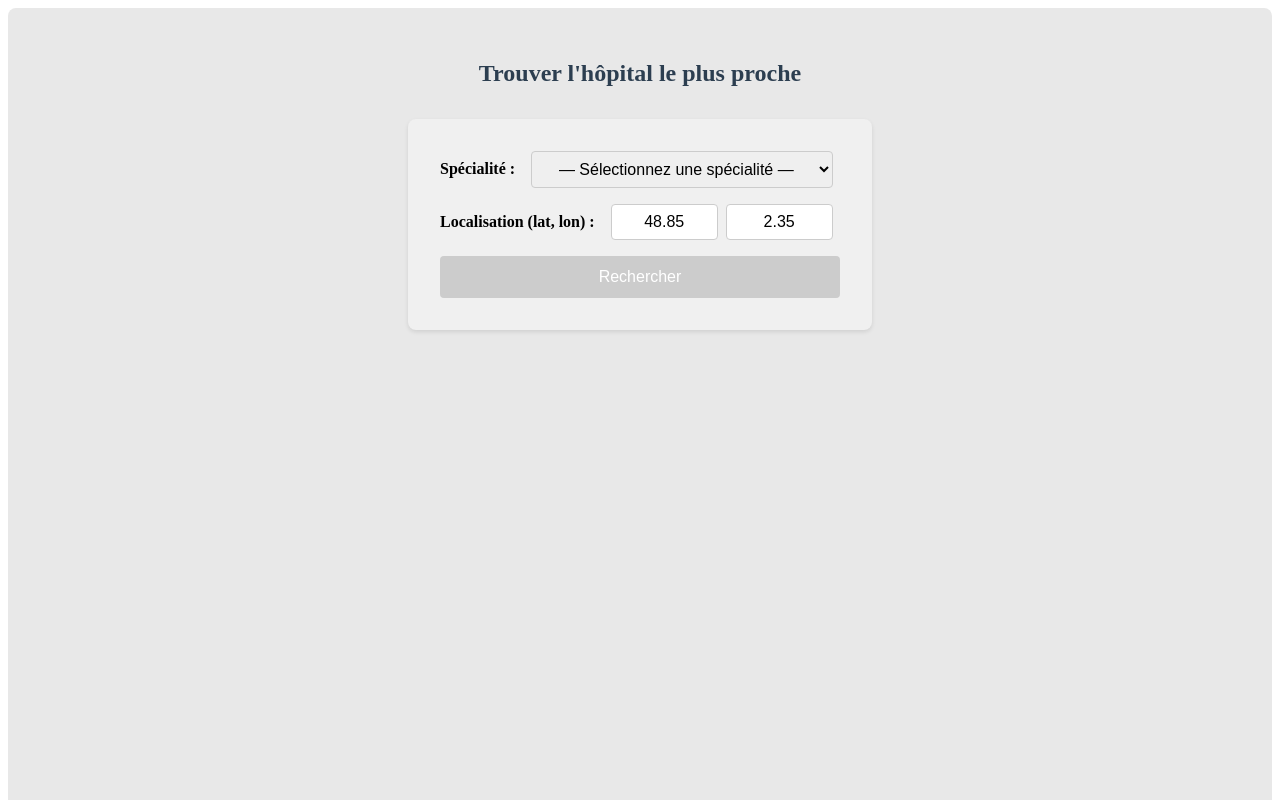
HospitalSearch › Recherche d'hôpital › affiche le résultat après une recherche réussie
The image size is (1280, 800).
Select "Cardiologie" in the dropdown. click: x=682, y=169
box: [531,151,834,188]
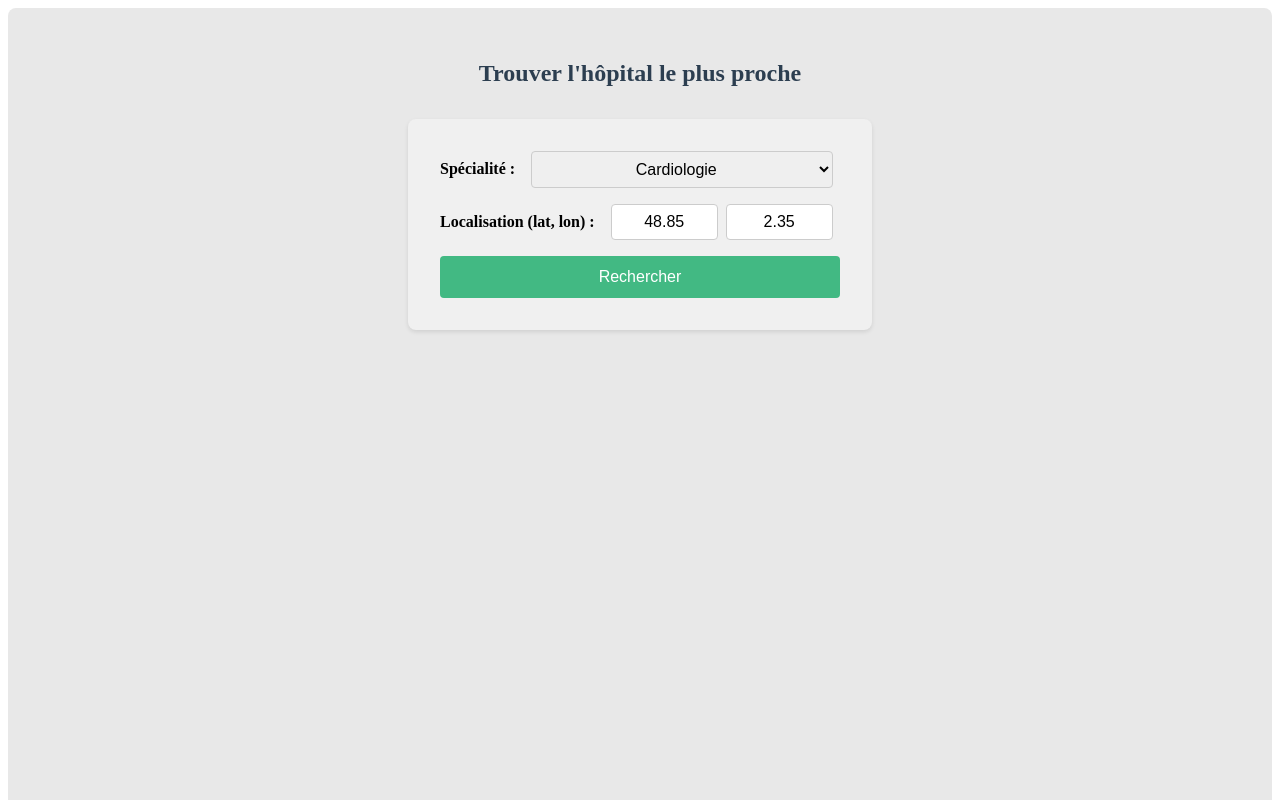
Submit the form, box [408,119,872,330]
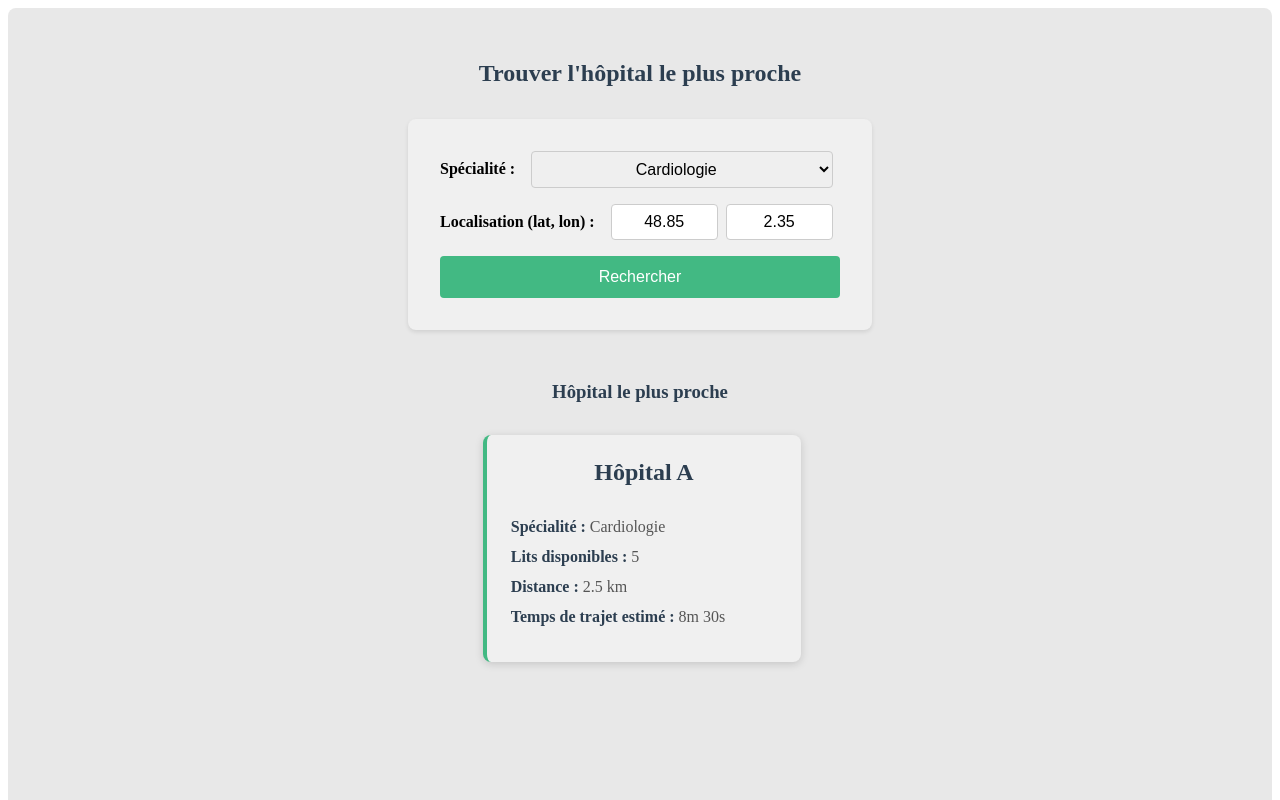
Now the text "Hôpital A" is shown, box [594,459,694,485]
Now the text "2.5 km" is shown, box [579,578,627,595]
Now the text "8m 30s" is shown, box [675,608,725,625]
